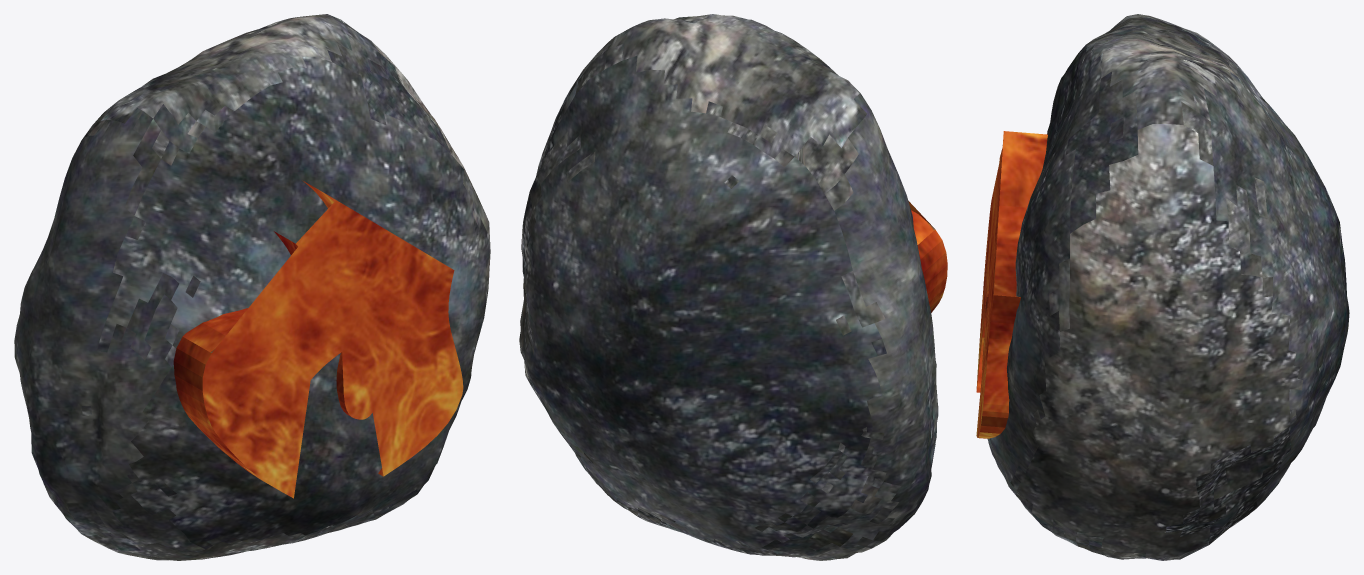
Rendered from powerup_crystal_mana.FBX.
The picture shows the model from 3 angles, left to right: view 1: azimuth 30°, elevation 25°; view 2: azimuth 150°, elevation 25°; view 3: azimuth 270°, elevation 25°; orthographic projection.
Parts seen in each view (by area): view 1: Pyramid004; view 2: Pyramid004; view 3: Pyramid004.
Part boxes in pixels (x1,y1,x2,y2): Pyramid004: (14,14,490,560); Pyramid004: (519,14,947,560); Pyramid004: (976,14,1349,560).
Size of the model in its own units: 6.34 by 7.49 by 5.07.
1 material, 1 textured.
